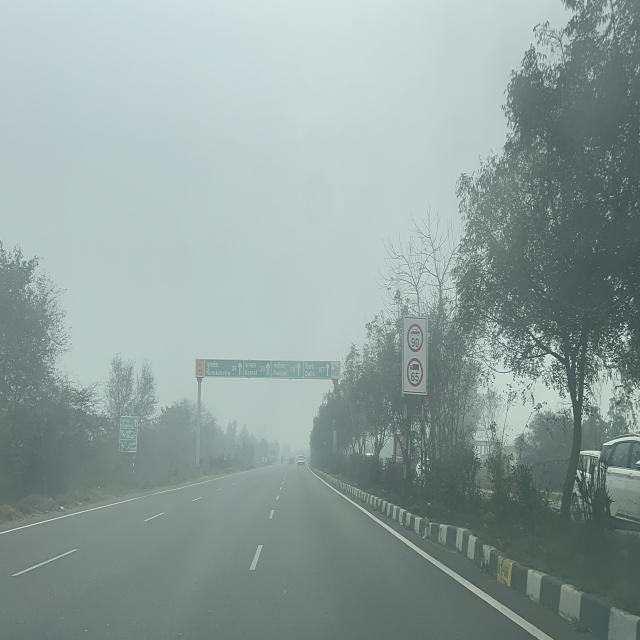GENERAL: (195, 358, 341, 379), (118, 416, 138, 453)
